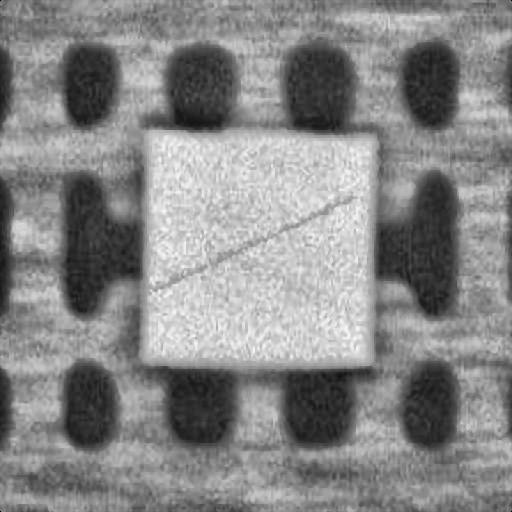DIE_CRACK: (219, 130, 512, 193)
